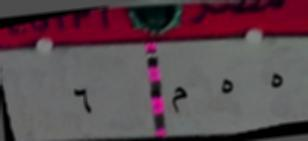6: (67, 84, 94, 121)
haa: (264, 64, 288, 98), (213, 72, 238, 101)
meem: (167, 77, 190, 119)
